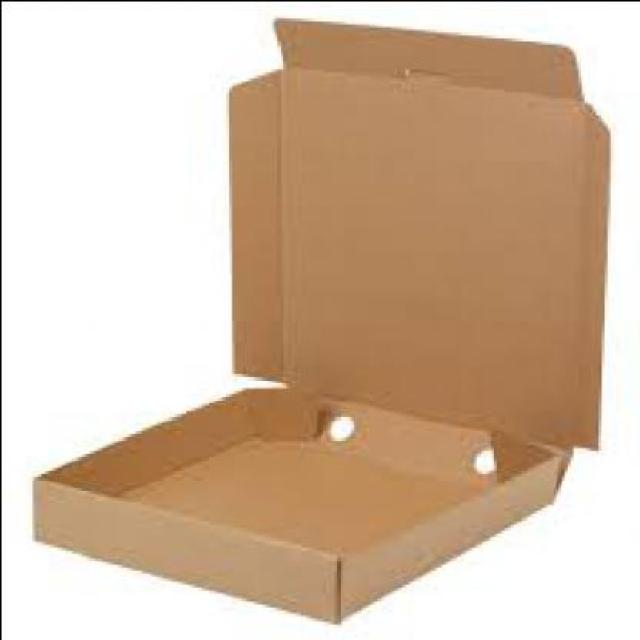CARDBOARD: (34, 14, 612, 620)
